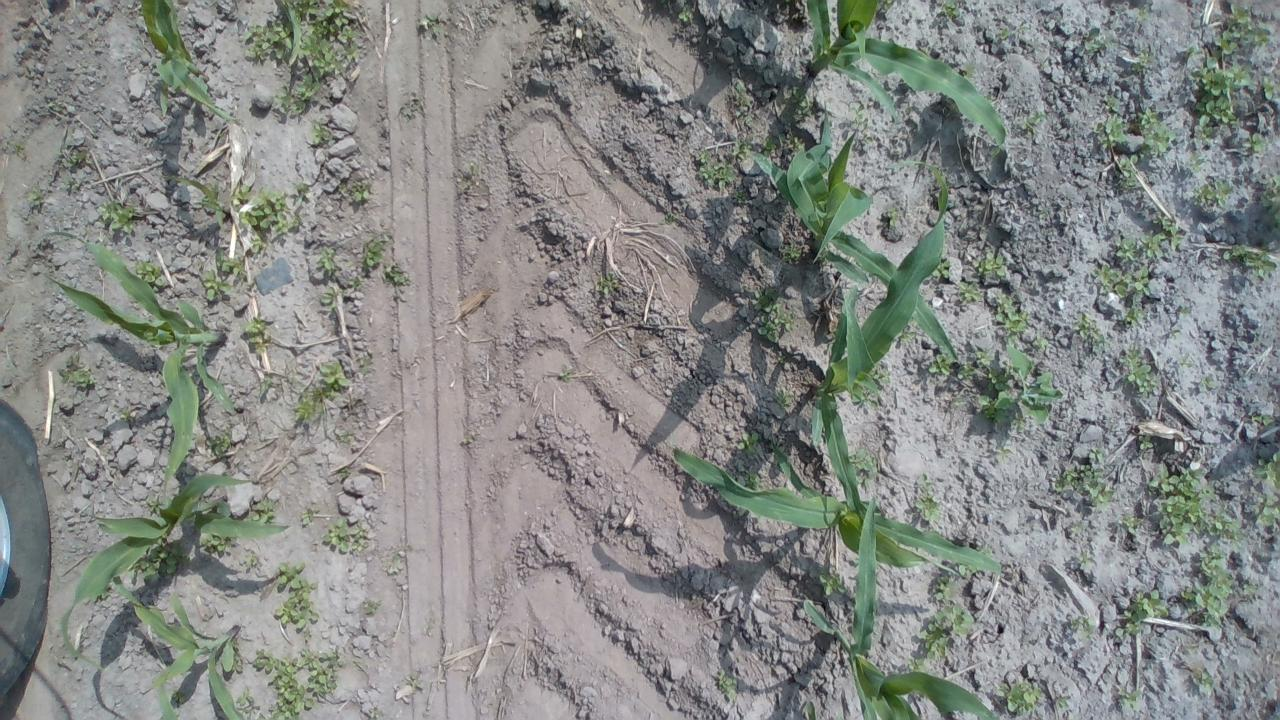Maize: (672, 396, 1003, 574), (743, 107, 962, 366), (804, 162, 952, 530), (42, 228, 235, 480), (58, 474, 290, 675), (804, 498, 1001, 720), (802, 0, 1004, 152), (112, 573, 244, 720), (140, 0, 237, 126)
Weeds: (240, 0, 360, 123), (952, 347, 1063, 434), (1149, 460, 1247, 546), (253, 648, 346, 720), (1188, 54, 1252, 144), (1177, 544, 1234, 630), (230, 182, 309, 234), (272, 560, 322, 642), (738, 282, 798, 350), (294, 357, 352, 423), (159, 175, 228, 225), (918, 604, 974, 660), (1114, 588, 1168, 642), (1213, 3, 1270, 54), (130, 536, 190, 582), (1055, 464, 1115, 510), (1118, 343, 1161, 401), (200, 248, 246, 301), (1222, 242, 1280, 281), (993, 290, 1030, 347), (1094, 263, 1151, 298), (1138, 107, 1177, 158), (319, 517, 367, 555), (694, 149, 736, 192), (998, 680, 1044, 717), (776, 85, 814, 128), (1115, 233, 1168, 262), (56, 350, 98, 386), (359, 230, 392, 274), (1075, 312, 1110, 353), (97, 200, 137, 235), (848, 448, 881, 490), (1192, 178, 1234, 209), (1259, 173, 1280, 234), (1152, 212, 1184, 251), (239, 316, 273, 352), (1094, 114, 1128, 150), (972, 245, 1006, 280), (133, 257, 167, 291), (1253, 451, 1280, 491), (731, 79, 753, 127), (914, 495, 942, 532), (247, 495, 280, 525), (1251, 496, 1280, 530), (196, 532, 236, 554), (206, 432, 232, 465), (1116, 154, 1138, 192), (736, 460, 762, 492), (380, 263, 414, 287), (311, 244, 339, 272), (1020, 109, 1048, 137), (336, 182, 371, 204), (717, 668, 738, 704), (906, 656, 940, 678), (816, 572, 846, 596), (51, 147, 85, 168), (933, 574, 960, 600), (1069, 615, 1097, 640), (1084, 30, 1118, 50), (309, 120, 334, 146), (736, 432, 761, 457), (761, 132, 785, 158), (958, 280, 984, 304), (594, 270, 618, 295), (928, 354, 954, 377), (1190, 667, 1214, 691), (770, 389, 796, 410), (420, 13, 443, 36), (1120, 687, 1142, 711), (870, 364, 894, 386), (319, 286, 338, 313), (782, 239, 804, 262), (929, 256, 951, 278), (1132, 50, 1152, 74), (297, 508, 319, 529), (1242, 134, 1265, 154), (768, 434, 788, 457), (1124, 306, 1147, 326), (236, 686, 255, 710), (732, 138, 751, 162), (894, 326, 919, 344), (939, 0, 960, 19), (384, 551, 400, 575), (1031, 331, 1049, 352), (1, 139, 26, 154), (168, 688, 191, 704), (258, 372, 272, 398), (1250, 414, 1276, 428), (1055, 695, 1074, 714), (992, 445, 1011, 464), (1198, 373, 1217, 392), (849, 106, 864, 130), (27, 182, 42, 206), (144, 494, 162, 514), (884, 206, 899, 230), (858, 395, 882, 410), (786, 134, 802, 156), (1261, 74, 1275, 98), (248, 234, 264, 255), (1122, 514, 1138, 535), (1186, 154, 1204, 172), (678, 5, 696, 23), (1238, 582, 1258, 598), (357, 355, 372, 376), (1078, 554, 1096, 571), (239, 552, 258, 568), (348, 273, 368, 288), (1088, 445, 1105, 462), (1104, 94, 1120, 112), (958, 563, 978, 577), (120, 407, 136, 423), (366, 600, 382, 616), (1138, 434, 1154, 450), (961, 64, 977, 80), (982, 94, 998, 110), (977, 545, 994, 560), (731, 507, 749, 521), (232, 653, 243, 675), (734, 190, 748, 207), (409, 672, 422, 690), (334, 428, 352, 441), (558, 369, 573, 384), (996, 26, 1010, 42), (820, 334, 833, 350), (916, 473, 929, 489), (47, 100, 64, 112), (1136, 7, 1150, 21), (878, 0, 895, 10), (990, 146, 1003, 159), (62, 178, 76, 190), (368, 708, 382, 720), (1177, 358, 1191, 370), (775, 350, 786, 365), (660, 214, 676, 224), (1184, 47, 1196, 59), (1184, 643, 1198, 653), (1069, 526, 1082, 536), (1178, 306, 1191, 316), (338, 468, 349, 478), (862, 137, 871, 145), (1038, 210, 1046, 218), (1018, 25, 1025, 33)
